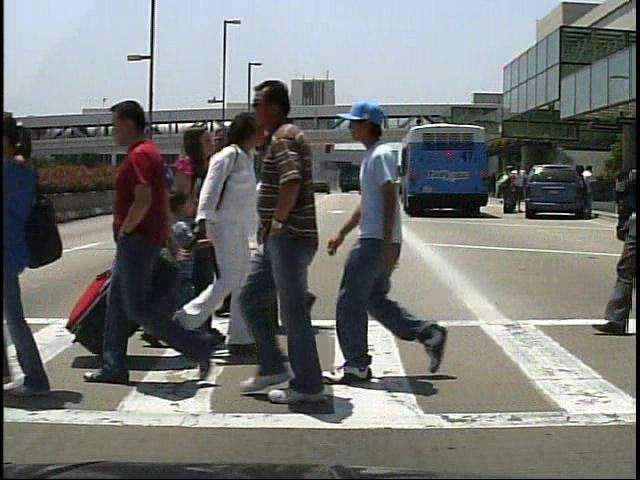person: (230, 84, 369, 424), (94, 91, 200, 389), (157, 113, 271, 374), (350, 104, 445, 383), (108, 122, 195, 343), (241, 135, 318, 331), (202, 128, 274, 322), (162, 120, 219, 362), (159, 189, 201, 320), (582, 164, 602, 218), (498, 166, 516, 219), (512, 166, 528, 215)
